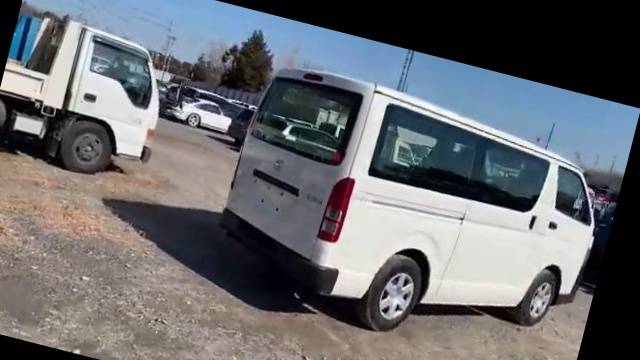van: (203, 56, 610, 360)
